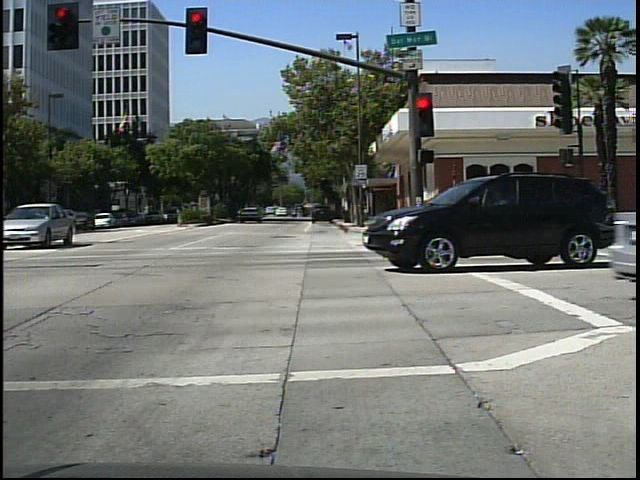person: (292, 203, 305, 221)
